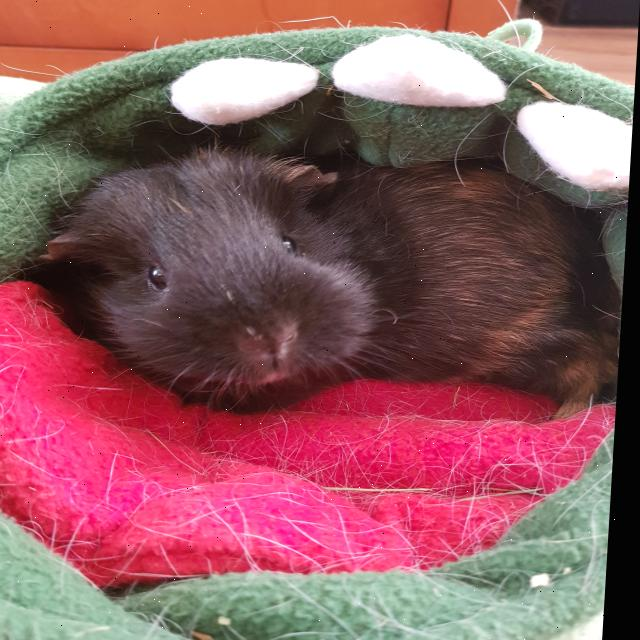guinea pig: (17, 144, 633, 432)
